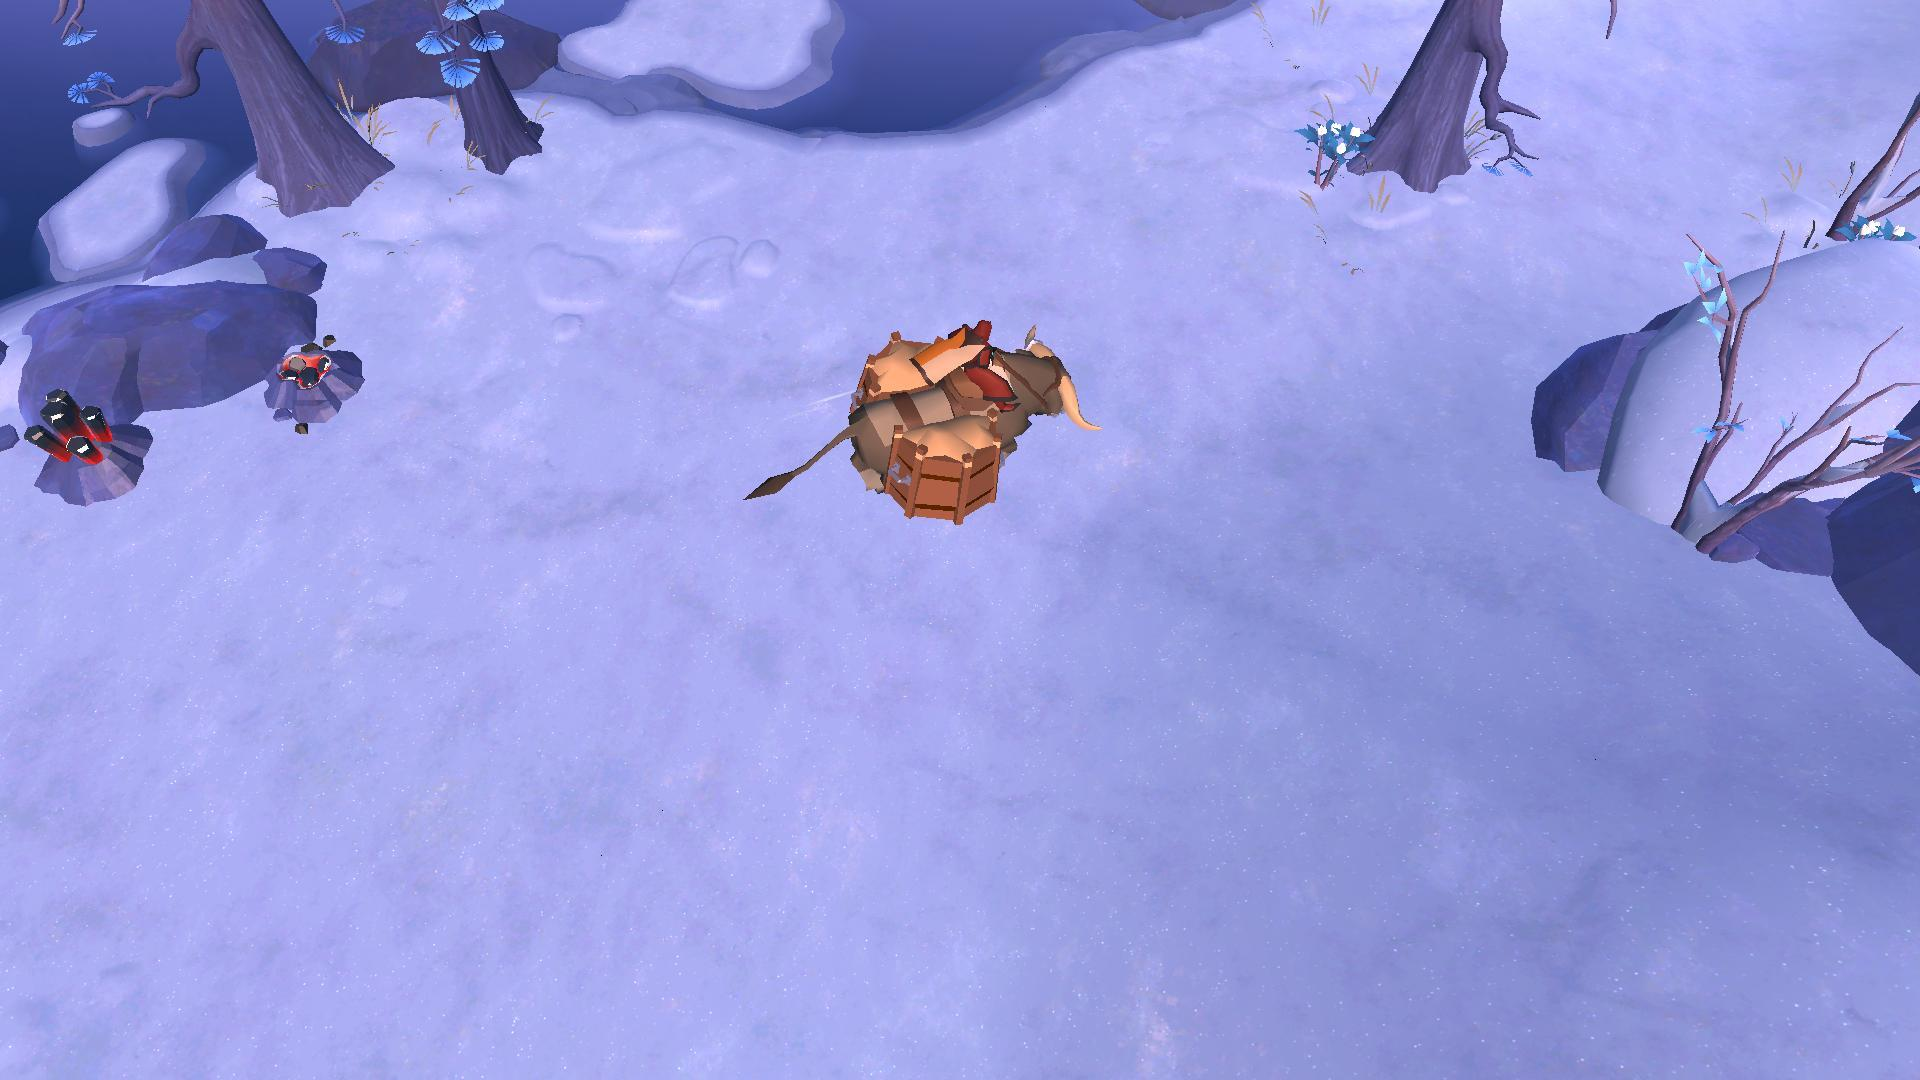fiber_t4: (1288, 109, 1367, 187), (1829, 208, 1916, 255)
ore_t5: (25, 382, 113, 471)
